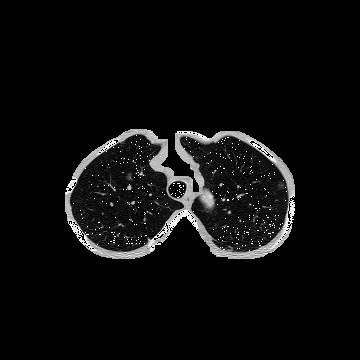PN: (277, 181, 285, 189)
